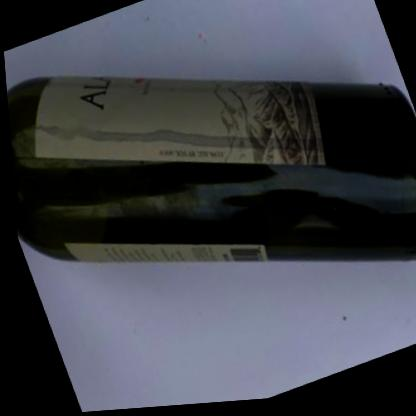Glass: (5, 77, 416, 267)
